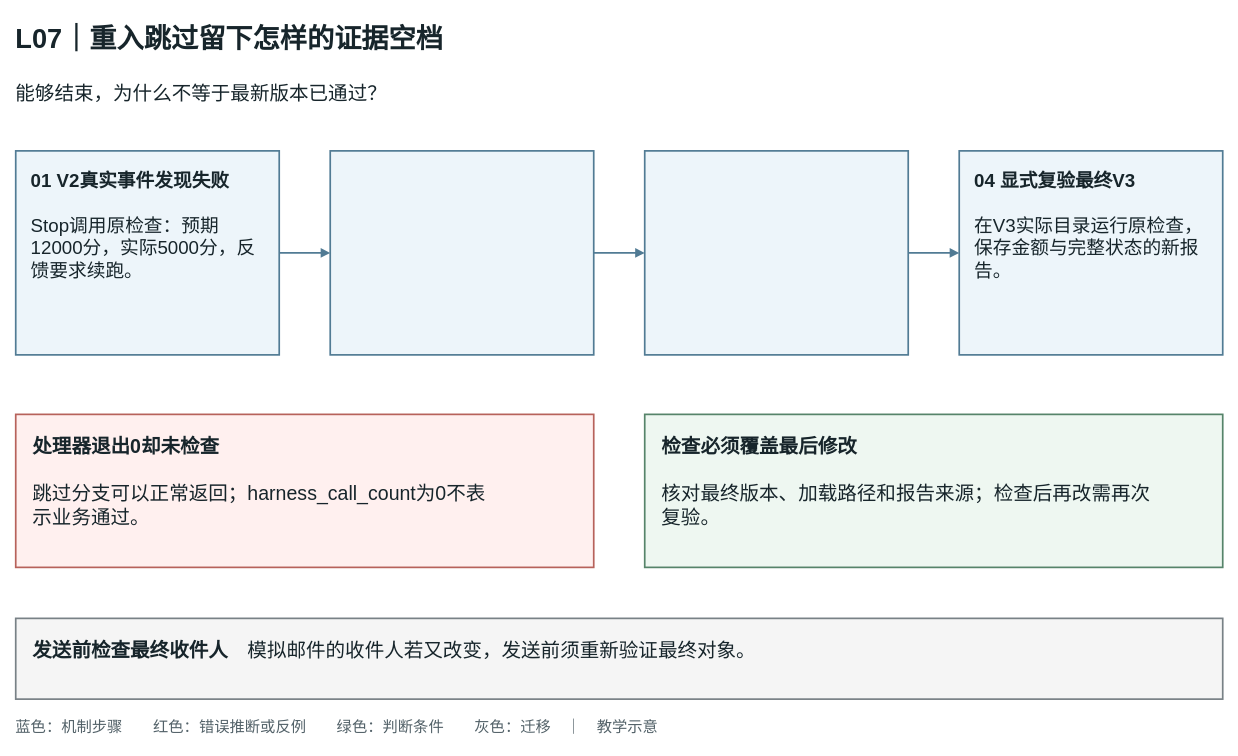
Image size: 1238x756. Some labels were removed from this diagram. Each missing label, with the centre of its shape:
"02 续跑修改产生V3 文件已改变，但V2红报告 不能判断V3是否正确。" goes at (461,252).
"03 重入跳过检查 stop_hook_active时不调 用Harness；本次没有新增 质量结论。" goes at (776,252).
